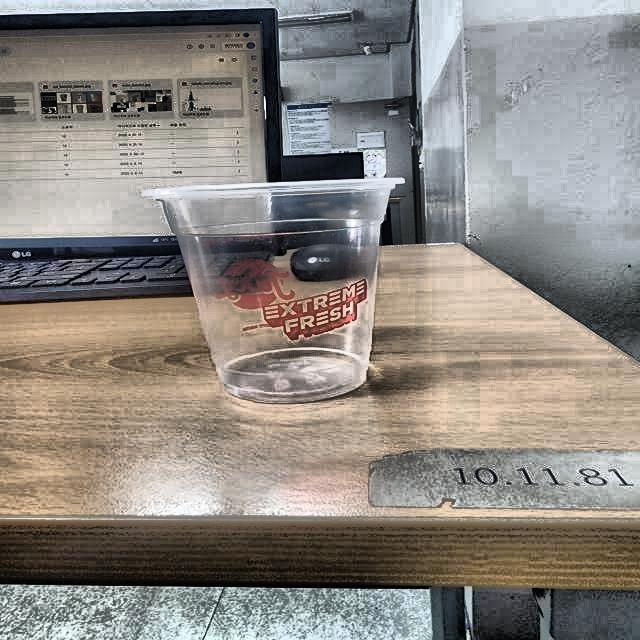plastic cup: (138, 175, 412, 400)
